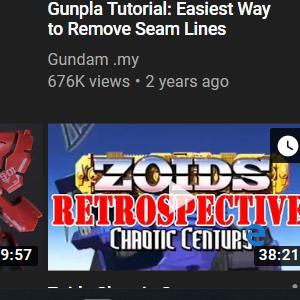edge: (245, 224, 265, 247)
